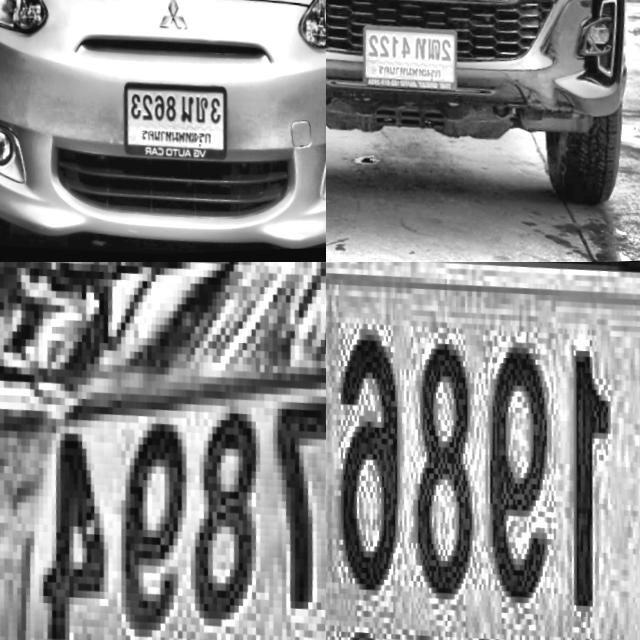license-plate: (0, 262, 326, 640), (326, 262, 640, 640), (109, 79, 222, 165), (347, 19, 457, 106)
